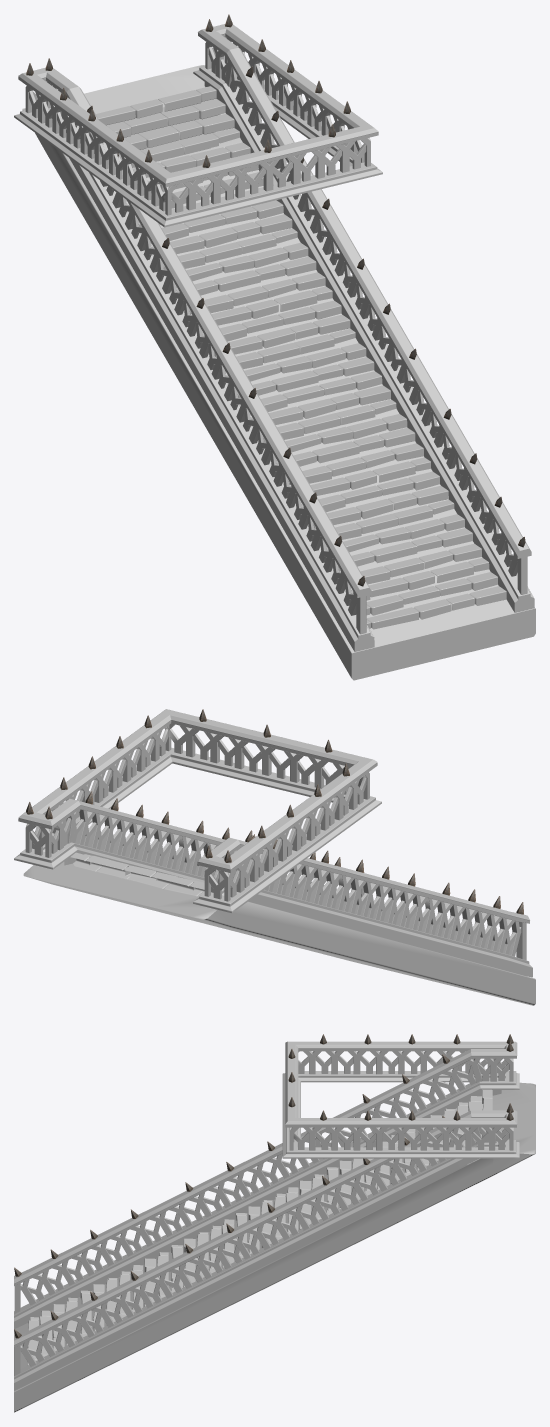
The picture shows the model from 3 angles, top to bottom: view 1: azimuth 30°, elevation 25°; view 2: azimuth 150°, elevation 25°; view 3: azimuth 270°, elevation 25°; orthographic projection. The views are drawn at different scales.
Parts seen in each view (by area): view 1: SM_Greathall_Stepset_01_LOD0; view 2: SM_Greathall_Stepset_01_LOD0; view 3: SM_Greathall_Stepset_01_LOD0.
Part boxes in pixels (x1,y1,x2,y2): SM_Greathall_Stepset_01_LOD0: (14,14,535,680); SM_Greathall_Stepset_01_LOD0: (14,709,535,1005); SM_Greathall_Stepset_01_LOD0: (14,1034,535,1412).
Size of the model in its own units: 7.71 by 13.11 by 20.25.
